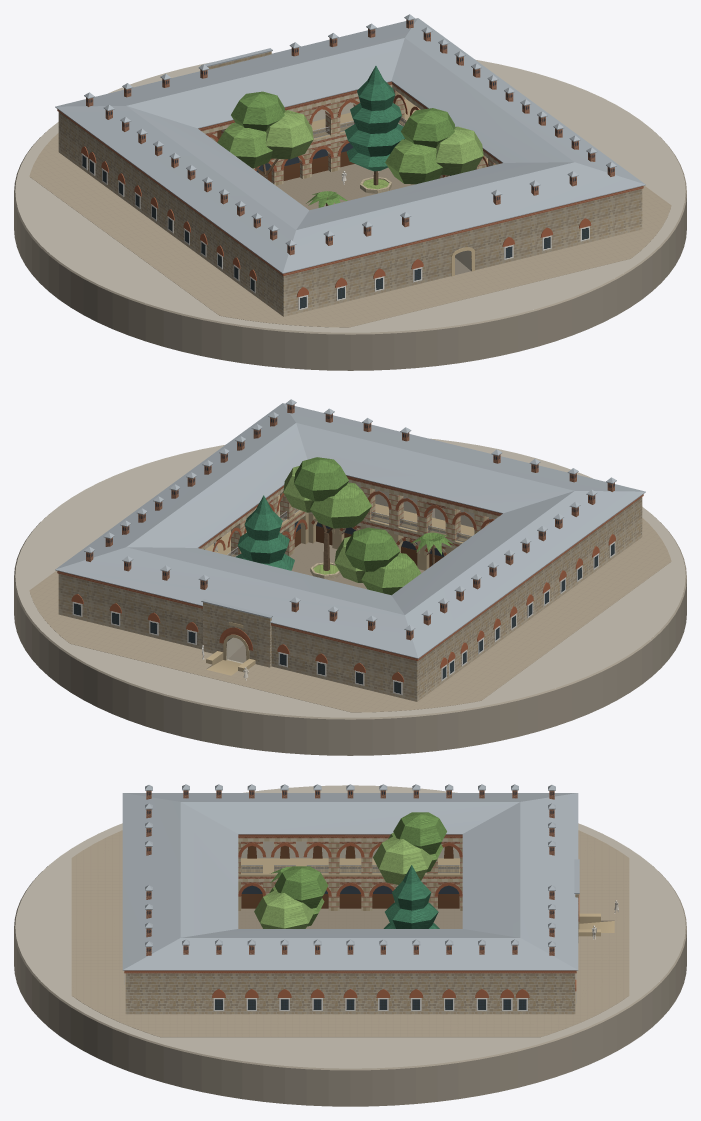
File: emir-hani_v03_sunum.glb
The picture shows the model from 3 angles, top to bottom: view 1: azimuth 30°, elevation 25°; view 2: azimuth 150°, elevation 25°; view 3: azimuth 270°, elevation 25°; orthographic projection.
Visible parts, largest first — view 1: Emir_Hani, Zemin_Kaide, Zemin_Sokak, Avlu_Revaklari, Cevre_Agac_02, Dis_Cephe, Cevre_Agac_01, Cevre_Agac_03, Bacalar, Han_Avlu, Girisler; view 2: Emir_Hani, Zemin_Kaide, Zemin_Sokak, Avlu_Revaklari, Dis_Cephe, Cevre_Agac_02, Bacalar, Girisler, Cevre_Agac_01, Cevre_Agac_03, Han_Avlu; view 3: Emir_Hani, Zemin_Kaide, Zemin_Sokak, Avlu_Revaklari, Dis_Cephe, Bacalar, Cevre_Agac_01, Cevre_Agac_02, Han_Avlu, Cevre_Agac_03, Girisler.
Boxes of the visible parts, x1,y1,x2,y2 form: Emir_Hani: [55, 18, 645, 316]; Zemin_Kaide: [14, 59, 686, 370]; Zemin_Sokak: [29, 133, 671, 327]; Avlu_Revaklari: [198, 81, 502, 185]; Cevre_Agac_02: [385, 108, 483, 184]; Dis_Cephe: [57, 109, 643, 309]; Cevre_Agac_01: [217, 91, 313, 179]; Cevre_Agac_03: [344, 66, 404, 193]; Bacalar: [84, 14, 616, 255]; Han_Avlu: [276, 164, 414, 210]; Girisler: [201, 48, 474, 276]; Emir_Hani: [55, 403, 645, 701]; Zemin_Kaide: [14, 438, 686, 755]; Zemin_Sokak: [29, 518, 671, 712]; Avlu_Revaklari: [198, 475, 502, 570]; Dis_Cephe: [57, 494, 643, 694]; Cevre_Agac_02: [283, 457, 371, 579]; Bacalar: [84, 399, 616, 640]; Girisler: [201, 599, 272, 675]; Cevre_Agac_01: [334, 527, 421, 595]; Cevre_Agac_03: [236, 495, 294, 570]; Han_Avlu: [289, 541, 424, 589]; Emir_Hani: [122, 793, 578, 1014]; Zemin_Kaide: [14, 785, 686, 1106]; Zemin_Sokak: [71, 830, 629, 1037]; Avlu_Revaklari: [238, 834, 462, 910]; Dis_Cephe: [124, 970, 576, 1010]; Bacalar: [145, 784, 555, 955]; Cevre_Agac_01: [373, 812, 446, 884]; Cevre_Agac_02: [254, 866, 328, 928]; Han_Avlu: [238, 896, 462, 928]; Cevre_Agac_03: [383, 865, 439, 928]; Girisler: [574, 859, 614, 942].
Bounding box in the file's own units: 74.78 × 15.61 × 74.78.
Materials: 25 (10 with a texture image).
